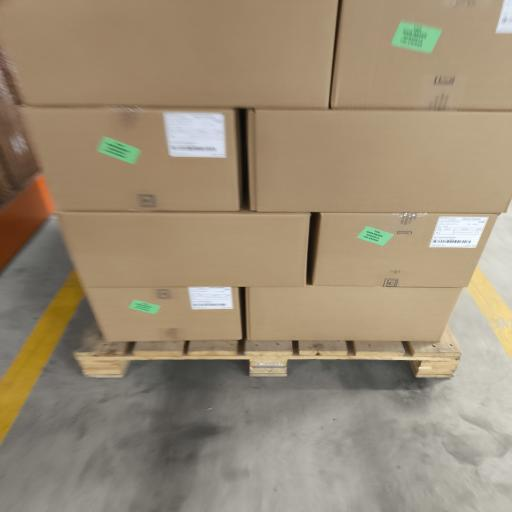pallet: (75, 326, 460, 377)
